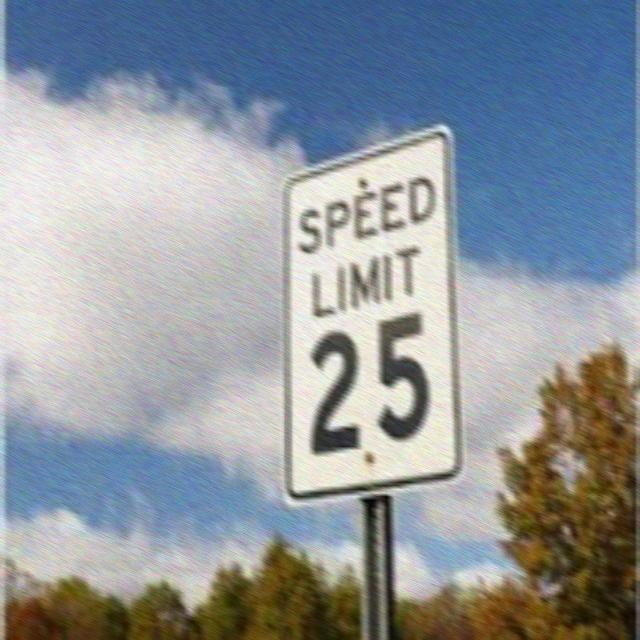speedLimit25: (276, 164, 470, 498)
